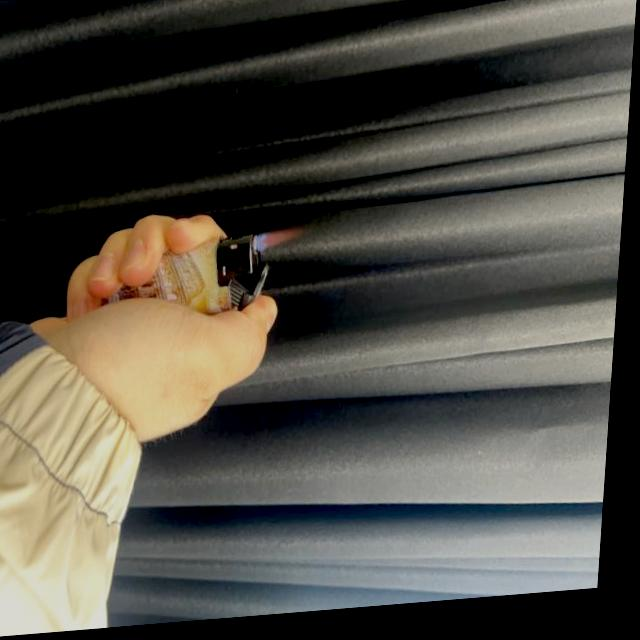Fire: (255, 234, 311, 258)
